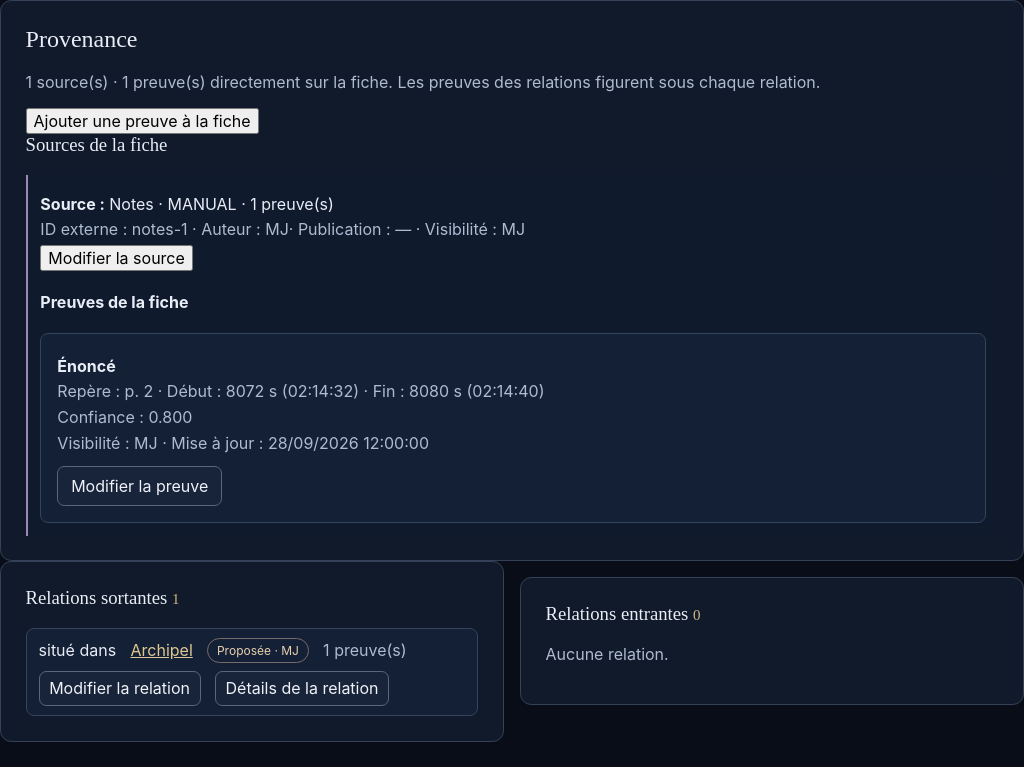
relations et provenance admin › un échec de chargement des preuves ne propose pas une publication avec des données partielles et peut être repris
Click the button "Détails de la relation" at [302, 688], box x1=215 y1=671 x2=389 y2=706
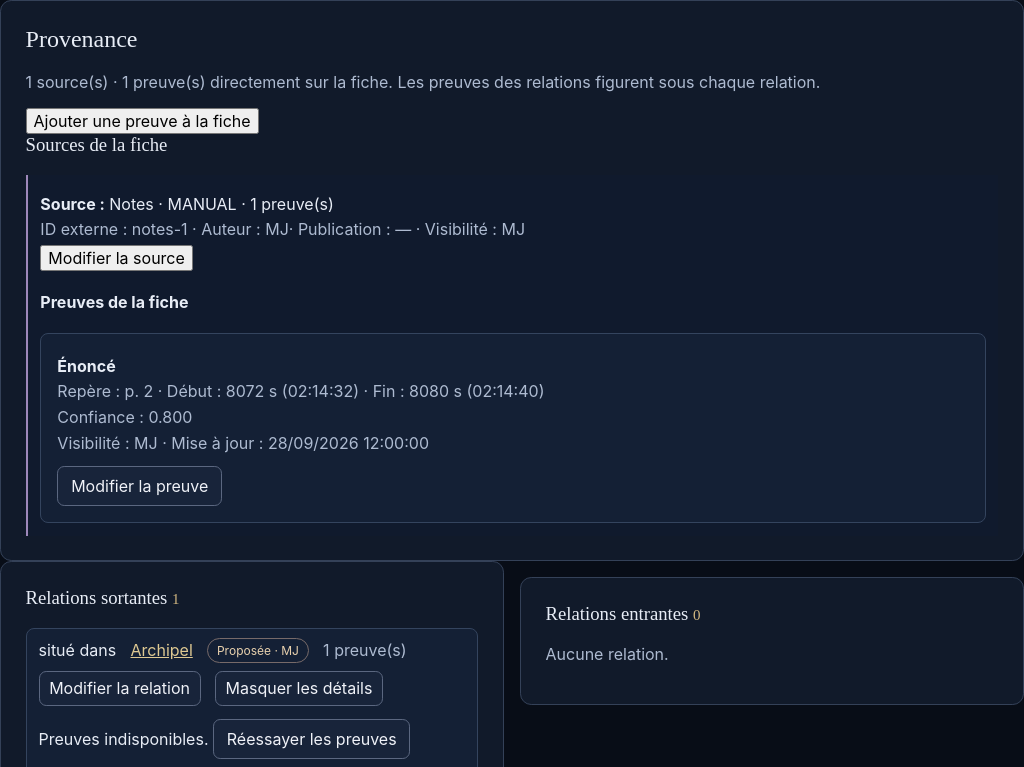
Check: the button "Publier la relation" is not shown
Check: the button "Réessayer les preuves" is shown
Click the button "Réessayer les preuves" at [312, 739], box x1=213 y1=719 x2=410 y2=759
(page scrolled)
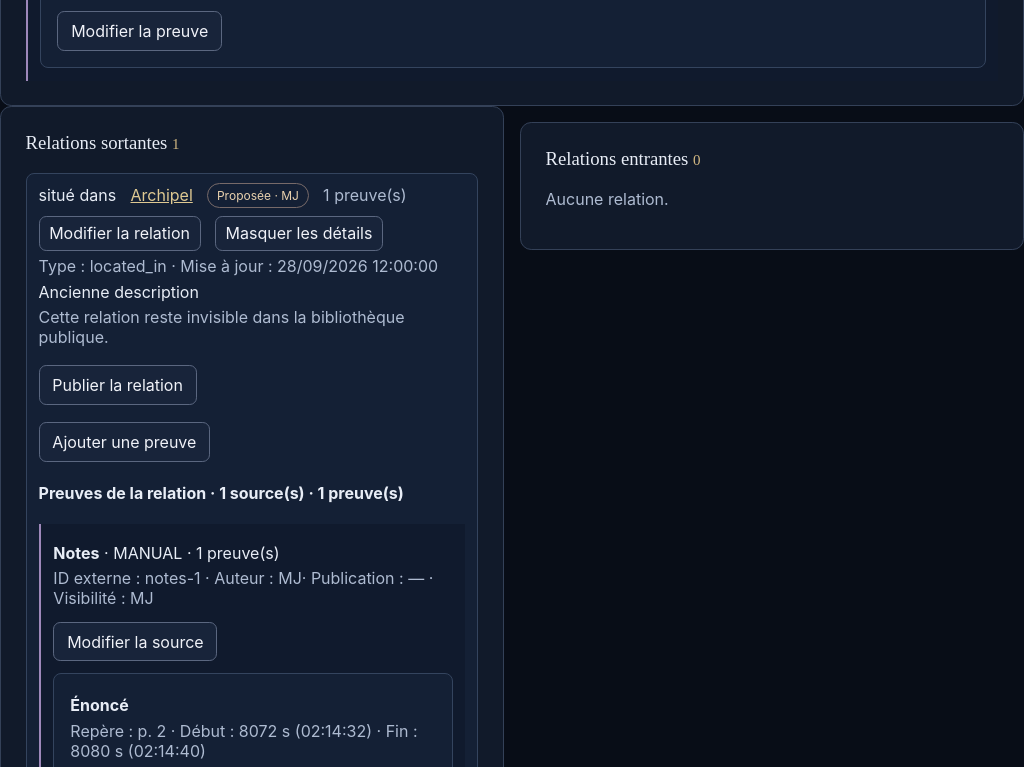
Check: the button "Publier la relation" is shown, box x1=39 y1=365 x2=197 y2=404
